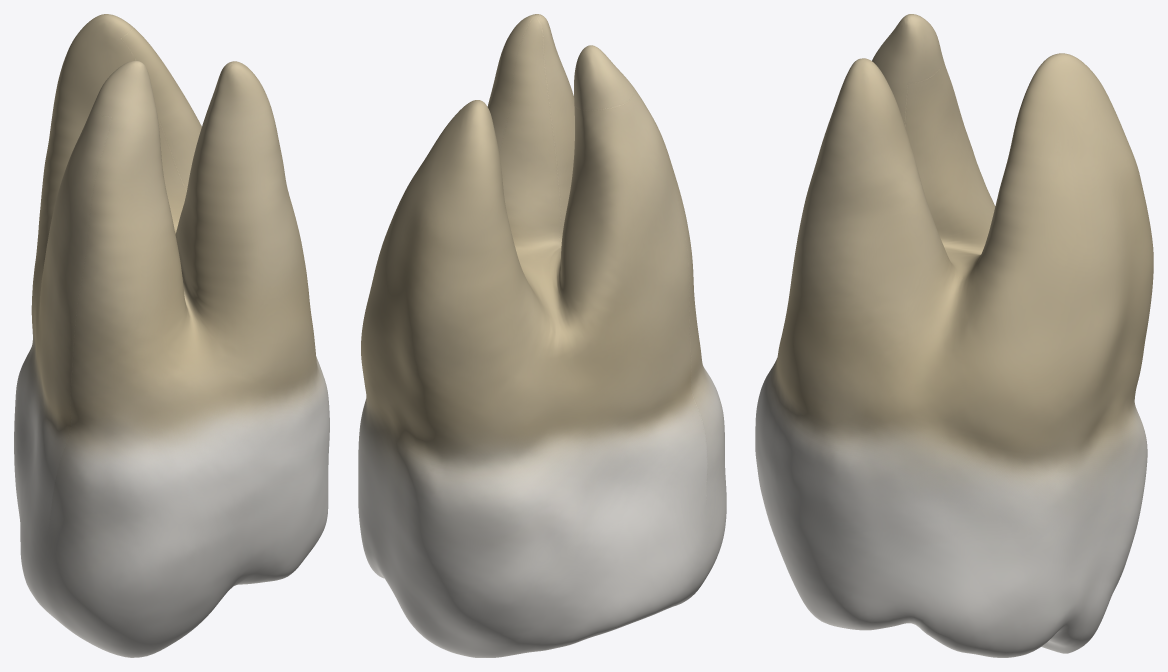
3 views of the same model, side by side, from view 1: azimuth 30°, elevation 25°; view 2: azimuth 150°, elevation 25°; view 3: azimuth 270°, elevation 25° (orthographic). The views are drawn at different scales.
Parts seen in each view (by area): view 1: t27; view 2: t27; view 3: t27.
Boxes of the visible parts, x1=… form: t27: x1=14, y1=14, x2=329, y2=657; t27: x1=358, y1=14, x2=726, y2=657; t27: x1=755, y1=14, x2=1153, y2=657.
Bounding box in the file's own units: 10.33 × 19 × 11.38.
1 material, 1 textured.
